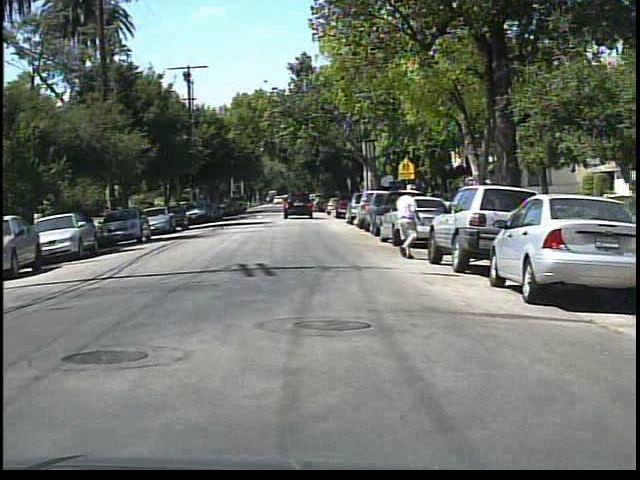person: (384, 183, 429, 264)
